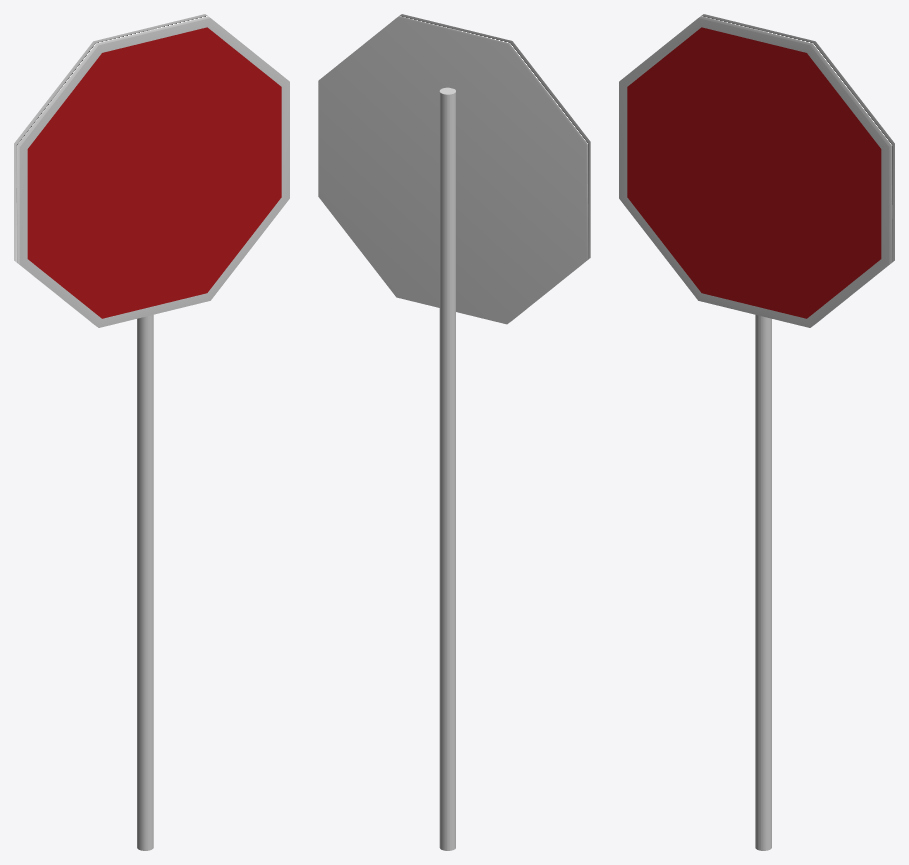
The model's file is LastStopBrewing.glb.
3 views of the same model, side by side, from view 1: azimuth 30°, elevation 25°; view 2: azimuth 150°, elevation 25°; view 3: azimuth 330°, elevation 25° (orthographic).
Parts seen in each view (by area): view 1: Cylinder, Cylinder.001; view 2: Cylinder, Cylinder.001; view 3: Cylinder, Cylinder.001.
Part boxes in pixels (bbox=[...]): Cylinder: bbox=[14, 14, 289, 327]; Cylinder.001: bbox=[137, 315, 153, 850]; Cylinder: bbox=[318, 14, 590, 324]; Cylinder.001: bbox=[439, 87, 455, 850]; Cylinder: bbox=[619, 14, 894, 327]; Cylinder.001: bbox=[755, 315, 771, 850].
Bounding box in the file's own units: 1.13 × 3.28 × 0.0981.
